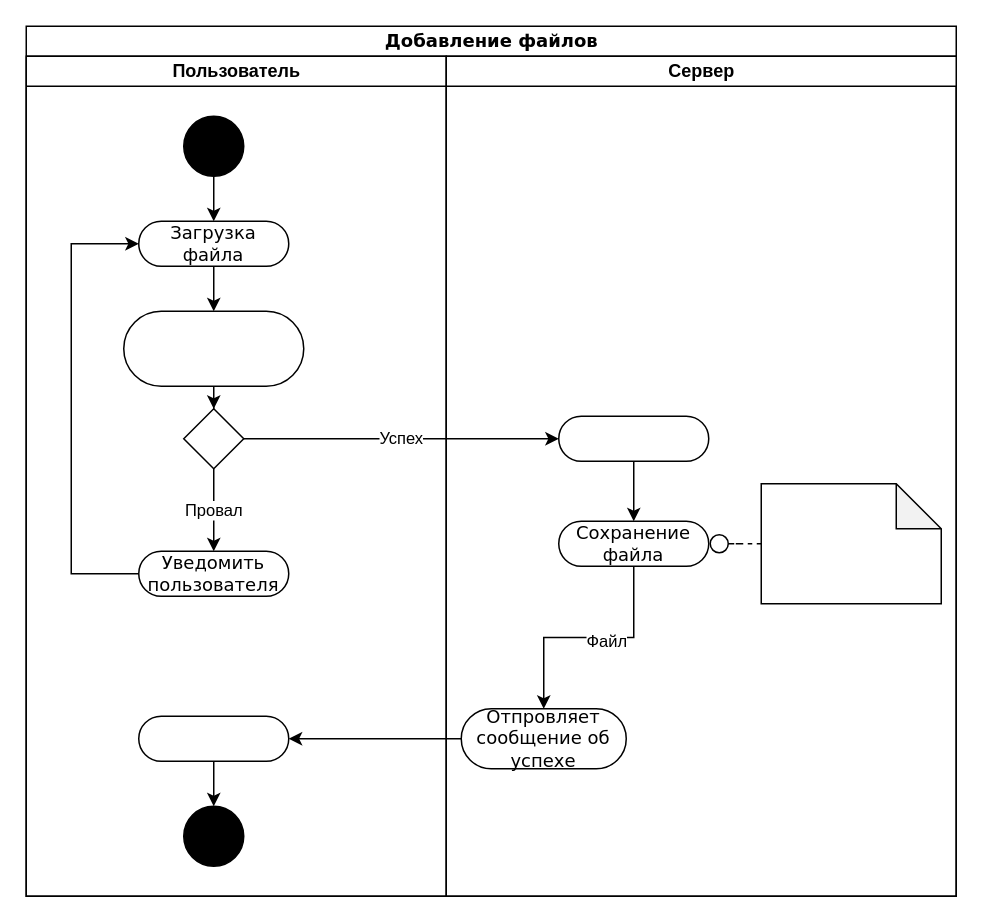
This 983x923 diagram has some shape labels left out. Each missing label, with the centre of its shape:
Валидация данных: pixel 213 348
Получение файла: pixel 633 438
Уведомить об успехе: pixel 213 738
Файл сохраняется в каталоге соответствующего курса: pixel 850 543
